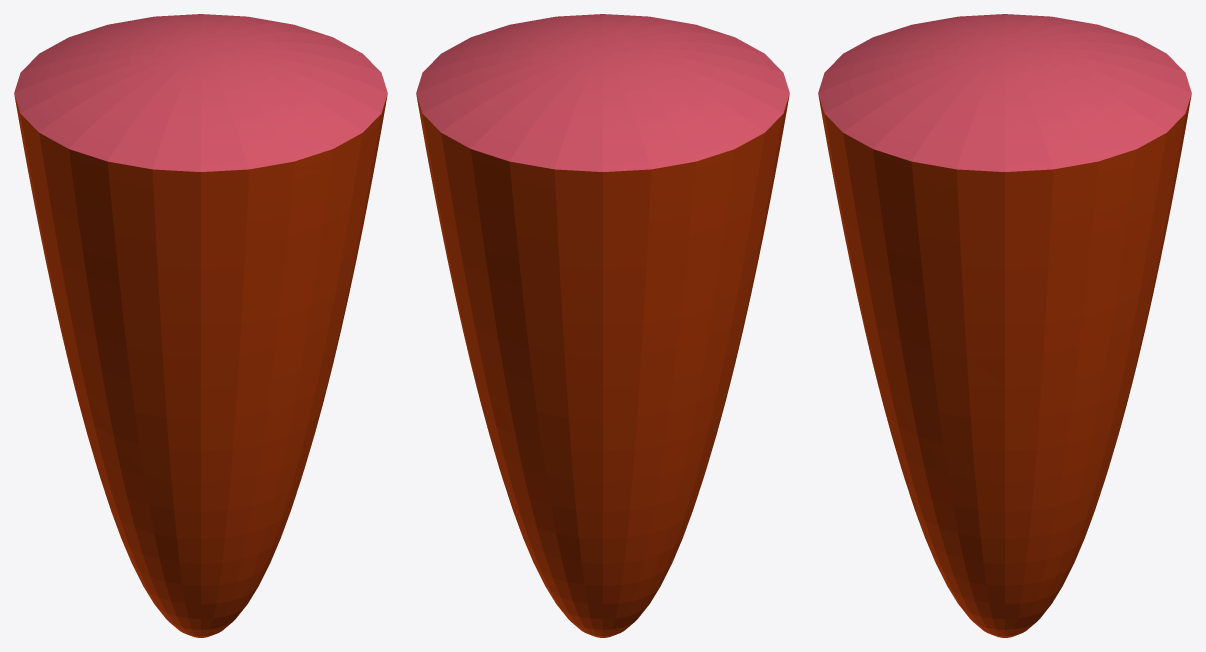
The model's file is Lava Plume.glb.
3 views of the same model, side by side, from view 1: azimuth 30°, elevation 25°; view 2: azimuth 150°, elevation 25°; view 3: azimuth 270°, elevation 25° (orthographic).
Parts seen in each view (by area): view 1: Mesh_Mesh_head_geo.001_lambert2SG.001; view 2: Mesh_Mesh_head_geo.001_lambert2SG.001; view 3: Mesh_Mesh_head_geo.001_lambert2SG.001.
Part boxes in pixels (x1,y1,x2,y2): Mesh_Mesh_head_geo.001_lambert2SG.001: (14,14,387,637); Mesh_Mesh_head_geo.001_lambert2SG.001: (416,14,789,637); Mesh_Mesh_head_geo.001_lambert2SG.001: (818,14,1191,637).
Bounding box in the file's own units: 31.75 × 54.77 × 31.75.
